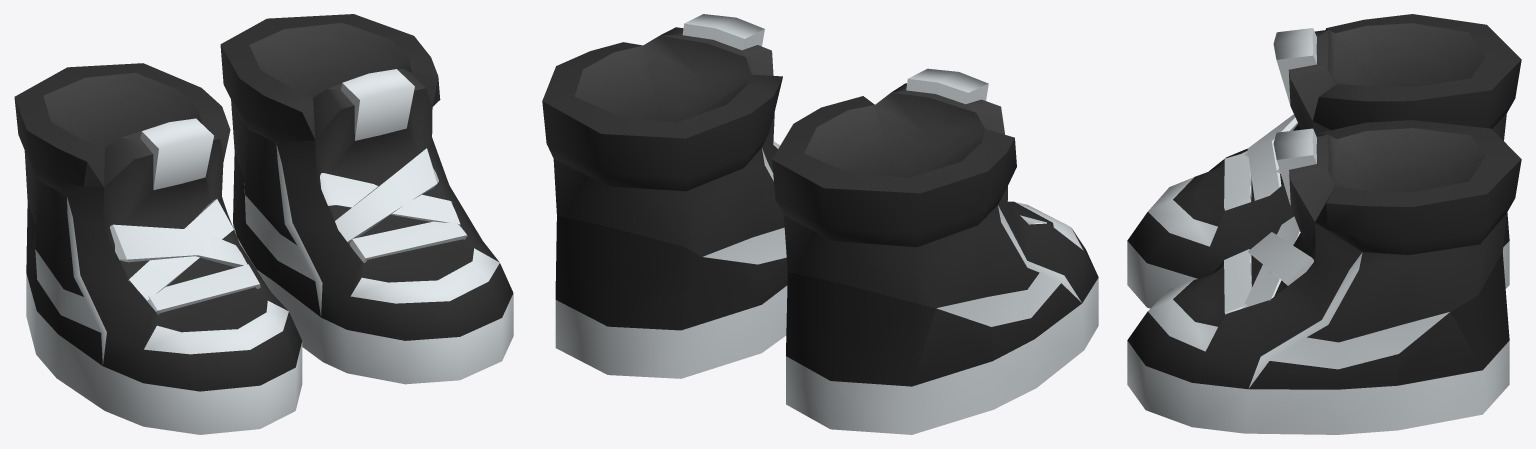
The model's file is Shoes_7.fbx.
The picture shows the model from 3 angles, left to right: view 1: azimuth 30°, elevation 25°; view 2: azimuth 150°, elevation 25°; view 3: azimuth 270°, elevation 25°; orthographic projection. The views are drawn at different scales.
Visible parts, largest first — view 1: Shoes_7; view 2: Shoes_7; view 3: Shoes_7.
Boxes of the visible parts, x1,y1,x2,y2 form: Shoes_7: (14, 14, 513, 434); Shoes_7: (542, 14, 1098, 434); Shoes_7: (1127, 14, 1521, 434).
Bounding box in the file's own units: 40.85 × 23.4 × 34.02.
